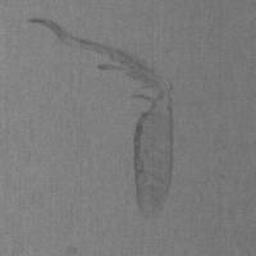Water spot: (26, 17, 175, 220), (64, 246, 78, 256)
